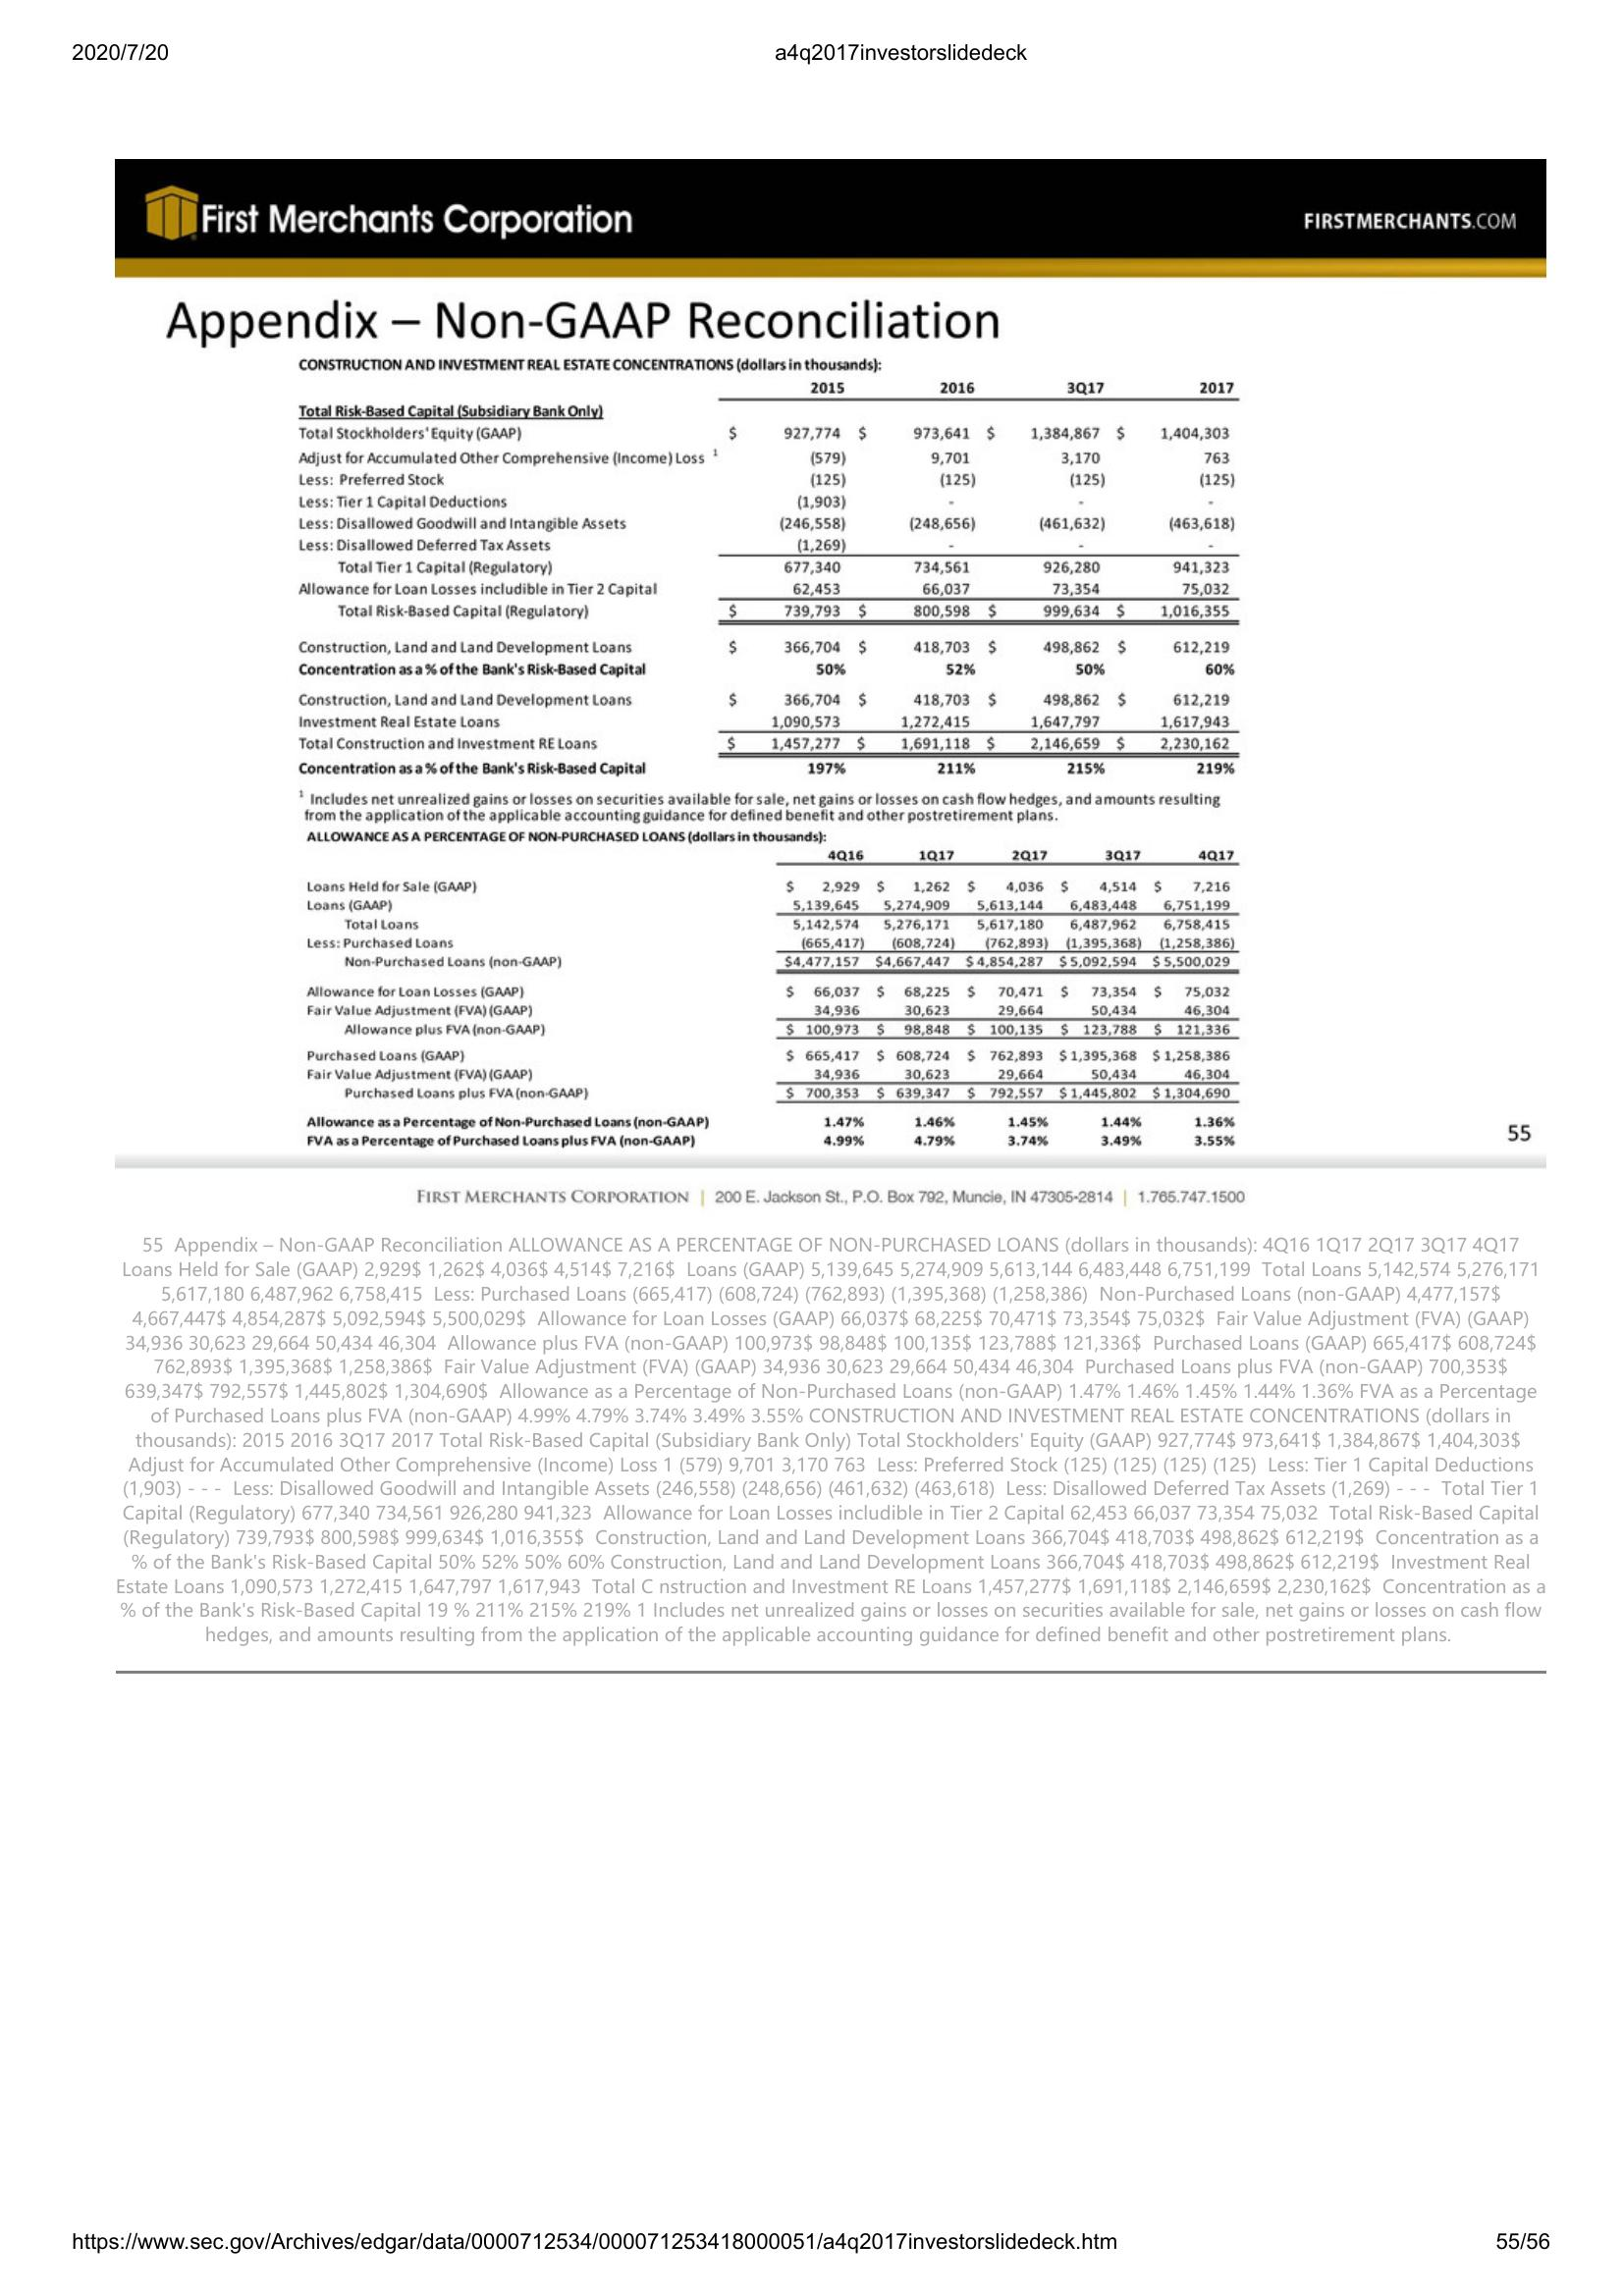table: (290, 349, 1251, 1153)
